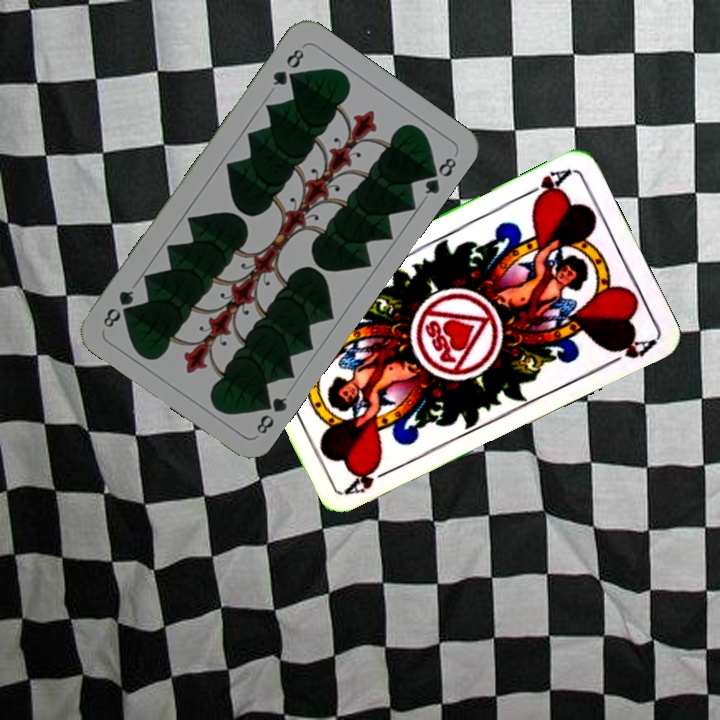G8: (268, 44, 307, 89), (252, 391, 290, 437)
HA: (518, 164, 574, 206), (341, 460, 398, 497)
